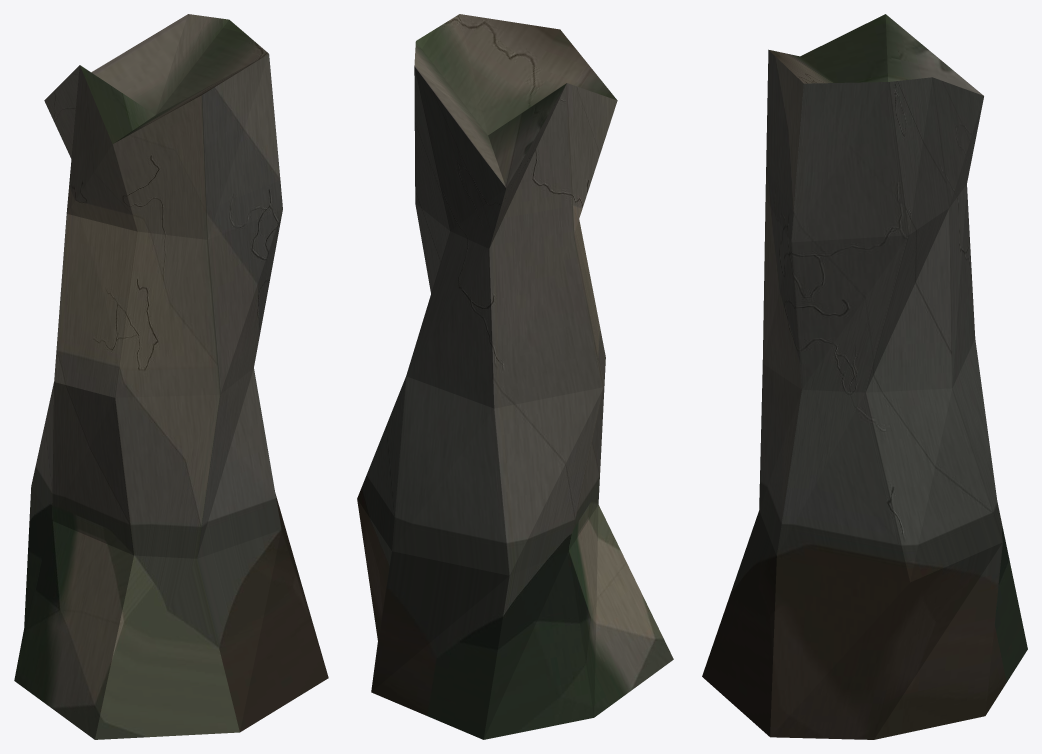
The model's file is monolito-03.glb.
3 renders of one model, left to right at view 1: azimuth 30°, elevation 25°; view 2: azimuth 150°, elevation 25°; view 3: azimuth 270°, elevation 25°, orthographic. The views are drawn at different scales.
Parts seen in each view (by area): view 1: monolito-03-pn; view 2: monolito-03-pn; view 3: monolito-03-pn.
Boxes of the visible parts, x1,y1,x2,y2 form: monolito-03-pn: [14, 14, 328, 739]; monolito-03-pn: [357, 14, 673, 739]; monolito-03-pn: [702, 14, 1027, 739].
Size of the model in its own units: 1.3 by 3.14 by 1.46.
1 material, 1 textured.
